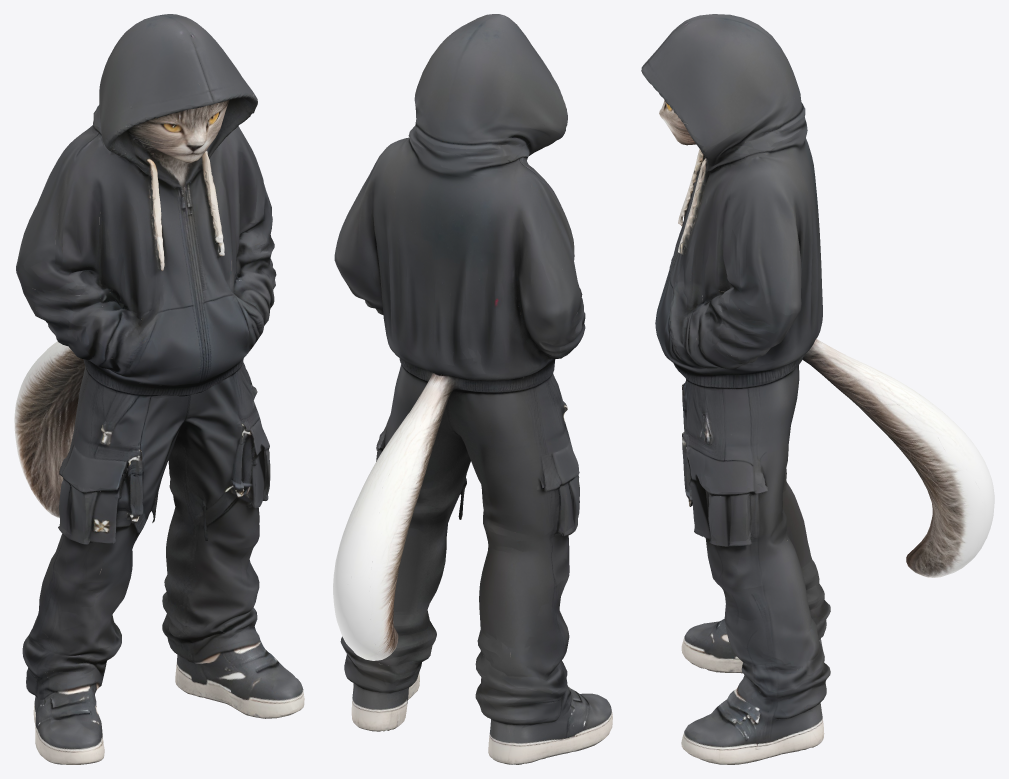
File: cat-hoodie.glb
3 renders of one model, left to right at view 1: azimuth 30°, elevation 25°; view 2: azimuth 150°, elevation 25°; view 3: azimuth 270°, elevation 25°, orthographic. The views are drawn at different scales.
Visible parts, largest first — view 1: Mesh; view 2: Mesh; view 3: Mesh.
Part boxes in pixels (left/top/right/bottom): Mesh: left=14, top=14, right=304, bottom=764; Mesh: left=333, top=14, right=612, bottom=764; Mesh: left=641, top=14, right=994, bottom=764.
Bounding box in the file's own units: 0.7056 × 1.91 × 0.8852.
Materials: 1 (1 with a texture image).
